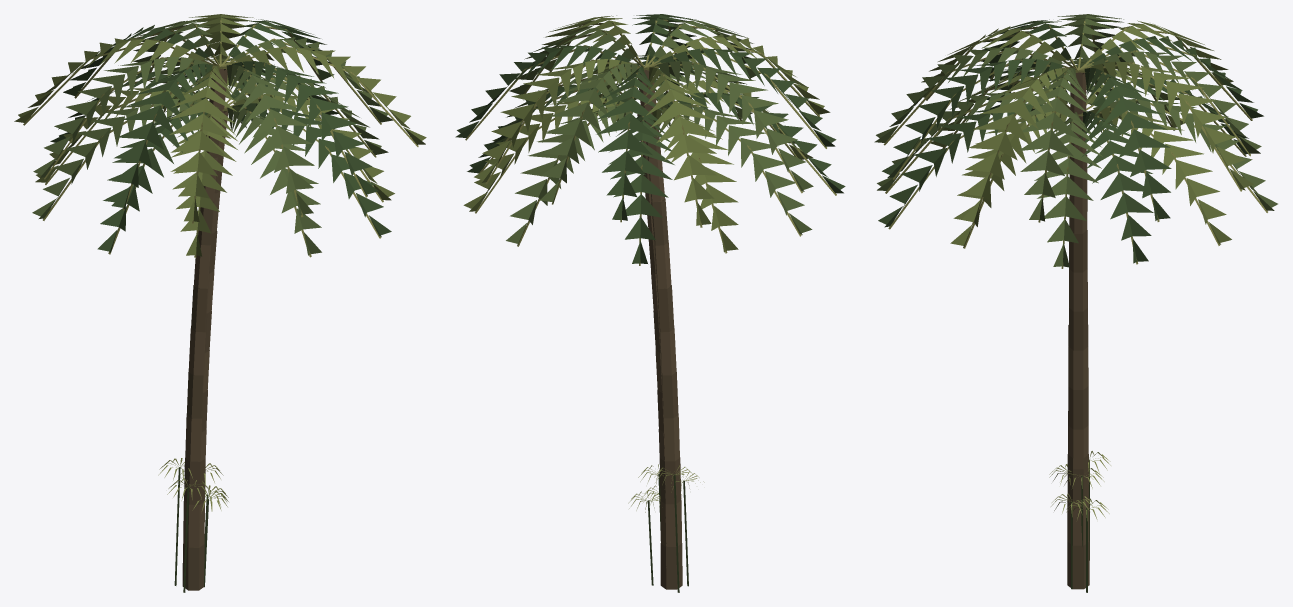
File: vegetation.glb
The picture shows the model from 3 angles, left to right: view 1: azimuth 30°, elevation 25°; view 2: azimuth 150°, elevation 25°; view 3: azimuth 270°, elevation 25°; orthographic projection. The views are drawn at different scales.
Parts seen in each view (by area): view 1: PalmA, PalmB, Papyrus; view 2: PalmA, PalmB, Papyrus; view 3: PalmA, PalmB, Papyrus.
Boxes of the visible parts, x1,y1,x2,y2 form: PalmA: (14, 14, 426, 590); PalmB: (32, 57, 394, 590); Papyrus: (158, 458, 228, 592); PalmA: (455, 14, 836, 589); PalmB: (463, 55, 845, 589); Papyrus: (628, 464, 704, 592); PalmA: (874, 14, 1263, 549); PalmB: (877, 58, 1277, 589); Papyrus: (1049, 451, 1110, 592).
Bounding box in the file's own units: 8.09 × 12.42 × 8.28.
